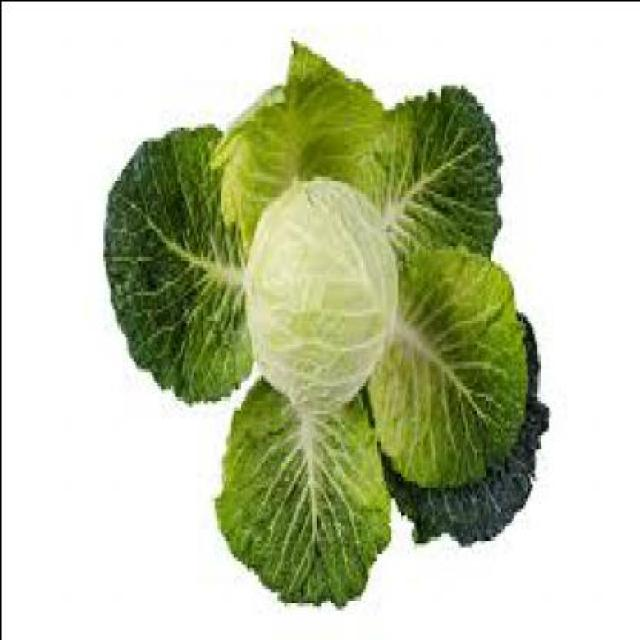BIODEGRADABLE: (105, 42, 552, 616), (250, 178, 402, 412)
